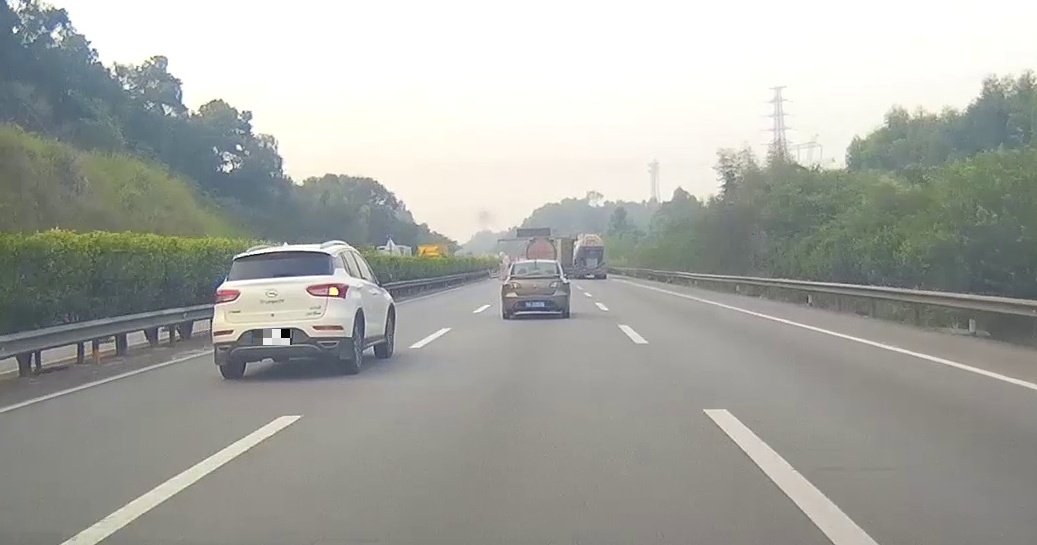L_light: (214, 289, 241, 305), (510, 282, 521, 289)
R_light: (305, 283, 349, 300), (549, 281, 562, 288)
T_light: (269, 252, 290, 255), (532, 262, 541, 264)
day-no: (501, 259, 571, 320)
day-right: (212, 244, 351, 378)
plate_1: (254, 329, 292, 345)
